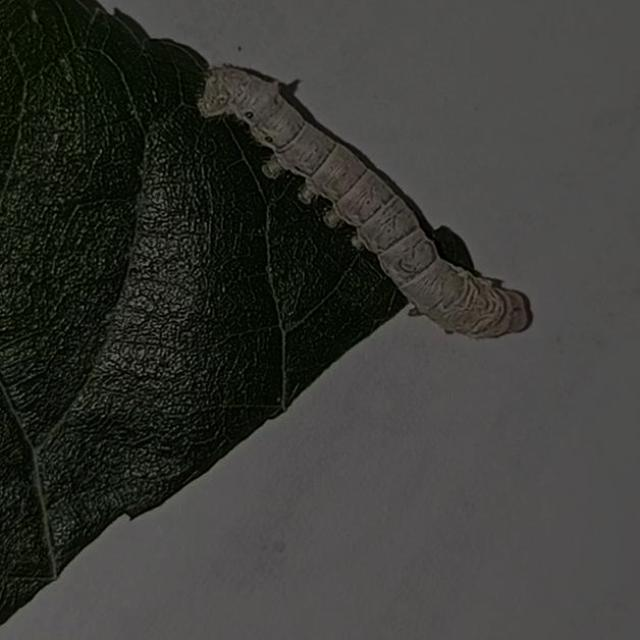Healthy: (192, 58, 538, 352)
